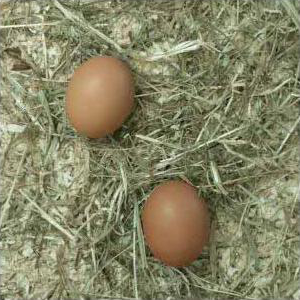egg: (141, 180, 211, 266), (66, 57, 134, 137)
